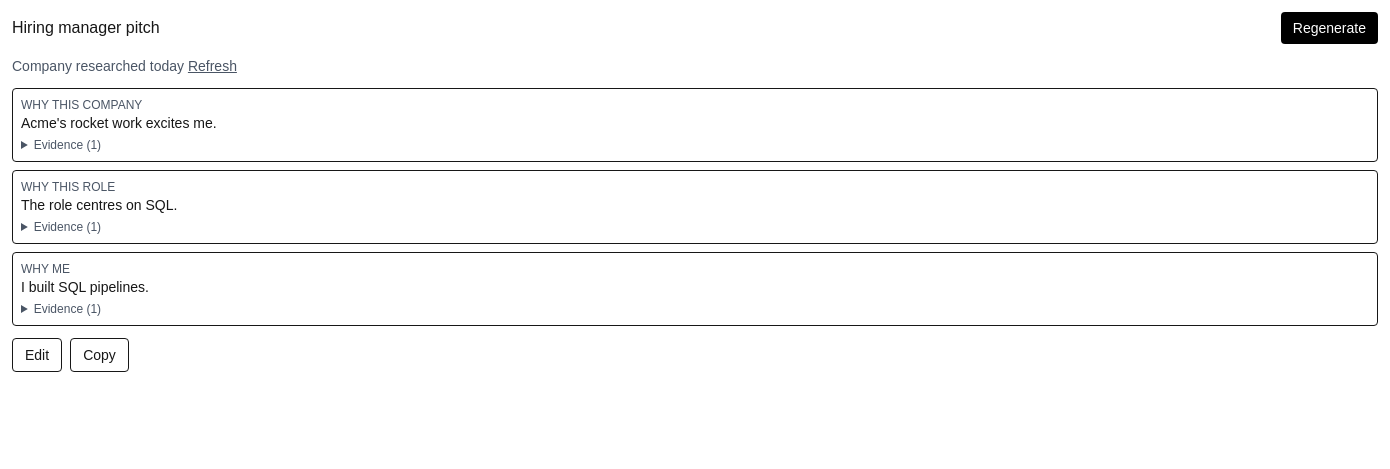
PitchPanel › selects the newest version and closes edit mode after Save
The width and height of the screenshot is (1390, 469).
Expected: the text "Acme's rocket work excites me." is shown, [21, 115, 217, 131]
Click the button "Edit".
click(37, 355)  # box [12, 338, 62, 372]
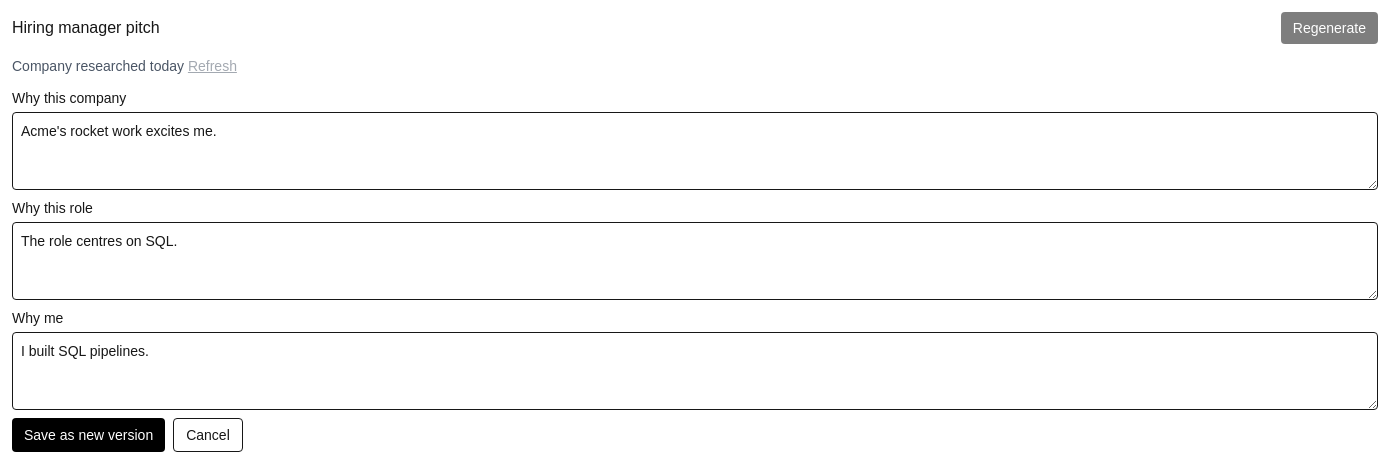
Click the button "Save as new version".
click(89, 435)  # box [12, 418, 165, 452]
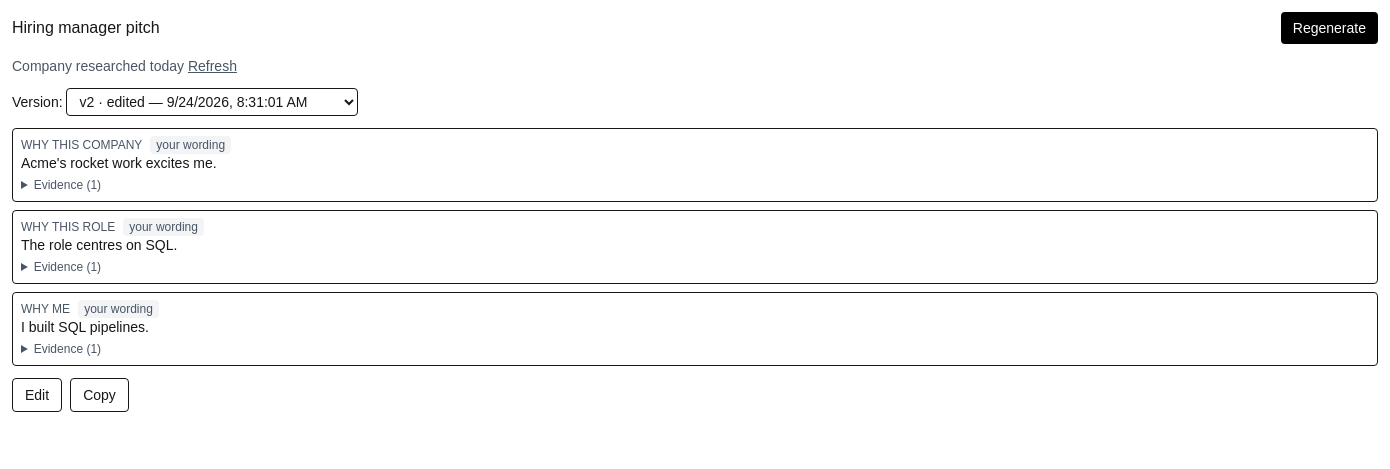
Now the button "Edit" is shown, box [12, 378, 62, 412]
Now the text "your wording" is shown 3 times, box [150, 136, 231, 154]; [123, 218, 204, 236]; [78, 300, 159, 318]
